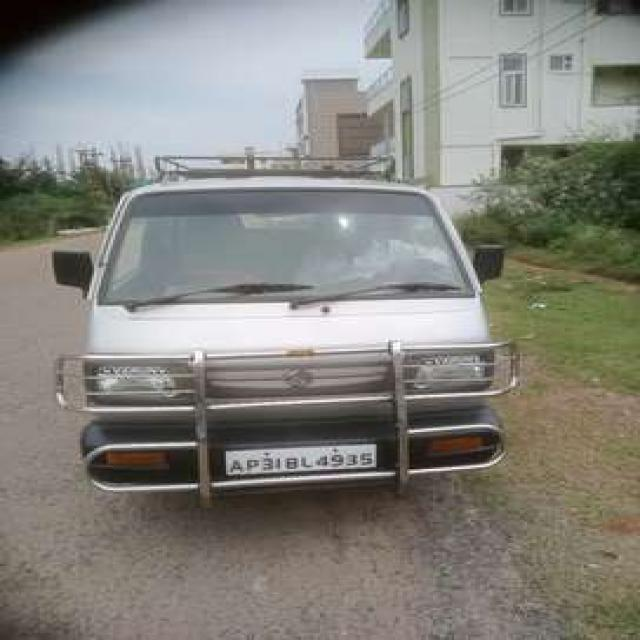license-plate: (221, 441, 372, 474)
